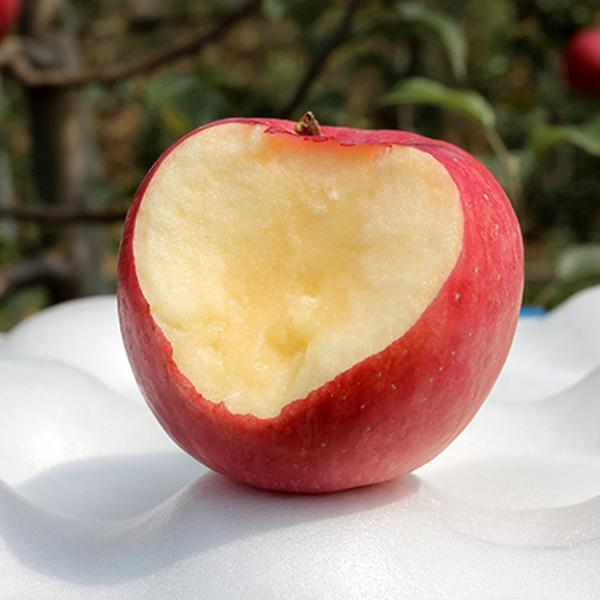apple: (117, 117, 527, 499)
